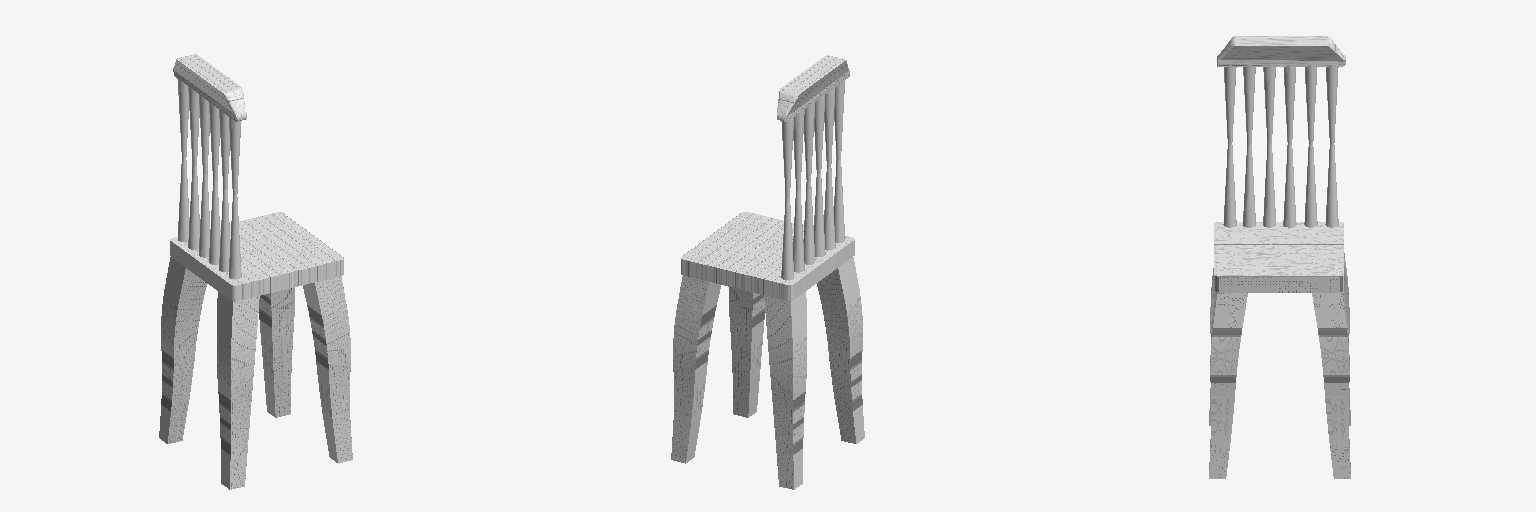
The picture shows the model from 3 angles: view 1: azimuth 30°, elevation 25°; view 2: azimuth 150°, elevation 25°; view 3: azimuth 270°, elevation 25°; orthographic projection.
Parts seen in each view (by area): view 1: Cubo.001_Cubo.002; view 2: Cubo.001_Cubo.002; view 3: Cubo.001_Cubo.002.
Part boxes in pixels (x1,y1,x2,y2): Cubo.001_Cubo.002: (159,54,352,489); Cubo.001_Cubo.002: (671,55,864,489); Cubo.001_Cubo.002: (1209,36,1350,478).
Size of the model in its own units: 9.1 by 27.33 by 9.1.
1 materials, 1 textured.